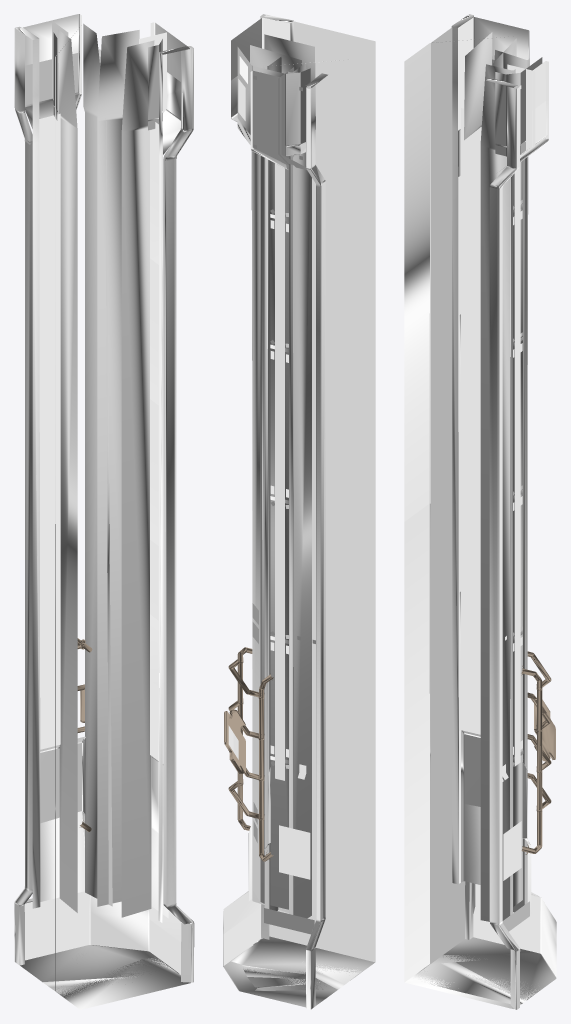
Rendered from roomsm_wall_cornerout_01x01x08_a.glb.
The picture shows the model from 3 angles, left to right: view 1: azimuth 30°, elevation 25°; view 2: azimuth 150°, elevation 25°; view 3: azimuth 330°, elevation 25°; orthographic projection.
Size of the model in its own units: 1.02 by 8.01 by 1.04.
